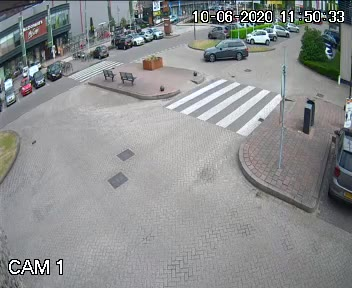car: (196, 37, 247, 62)
